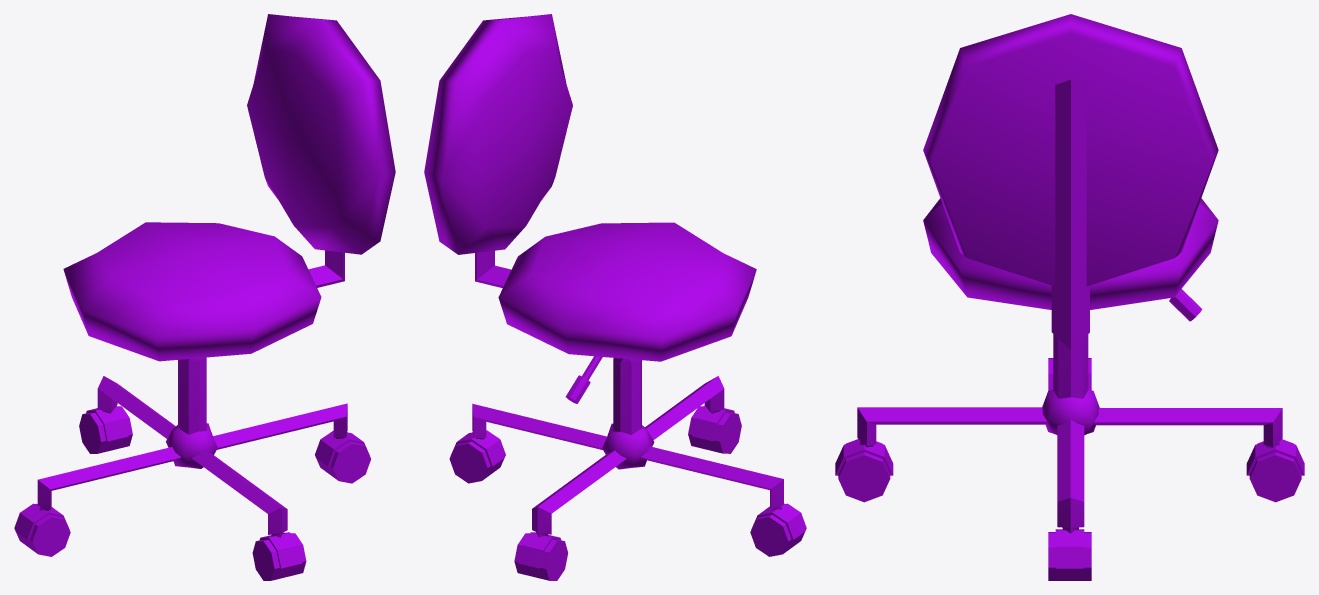
The model's file is sm_desk_chair_low.fbx.
3 views of the same model, side by side, from view 1: azimuth 30°, elevation 25°; view 2: azimuth 150°, elevation 25°; view 3: azimuth 270°, elevation 25° (orthographic). The views are drawn at different scales.
Visible parts, largest first — view 1: pTorus35; view 2: pTorus35; view 3: pTorus35.
Part boxes in pixels (x1=…): pTorus35: x1=14, y1=14, x2=395, y2=580; pTorus35: x1=424, y1=14, x2=806, y2=580; pTorus35: x1=835, y1=14, x2=1304, y2=580.
Size of the model in its own units: 243 by 315 by 243.
